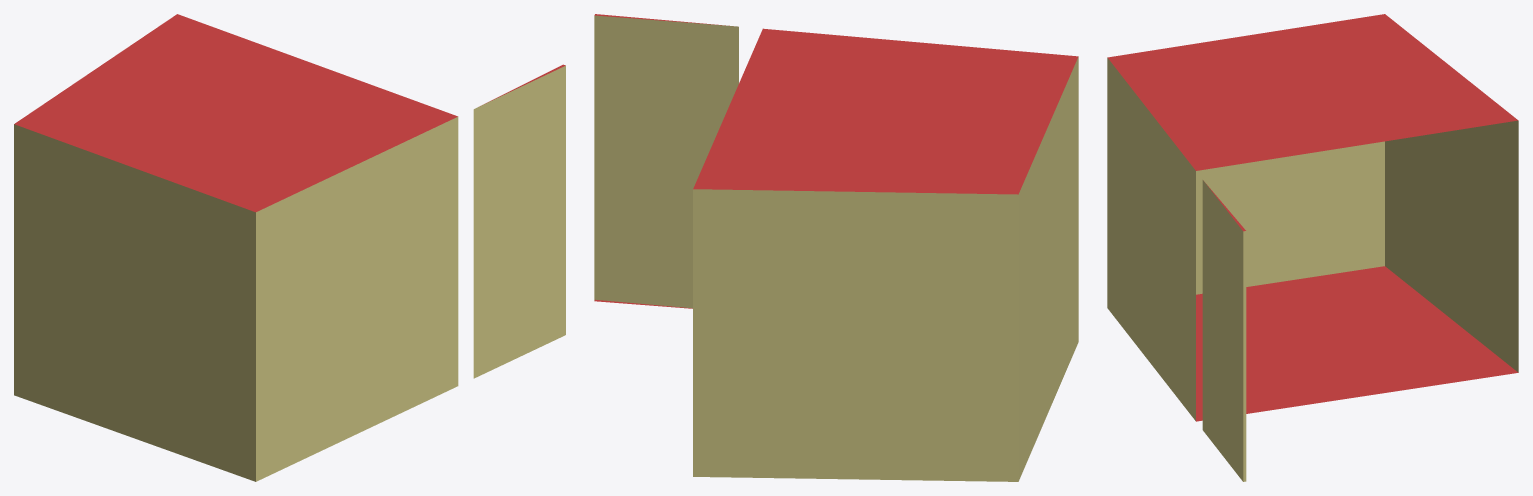
3 renders of one model, left to right at view 1: azimuth 30°, elevation 25°; view 2: azimuth 150°, elevation 25°; view 3: azimuth 270°, elevation 25°, orthographic. The views are drawn at different scales.
Bounding box in the file's own units: 11.61 × 9.35 × 6.33.
